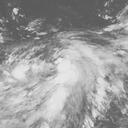cyclone: (6, 38, 110, 122)
